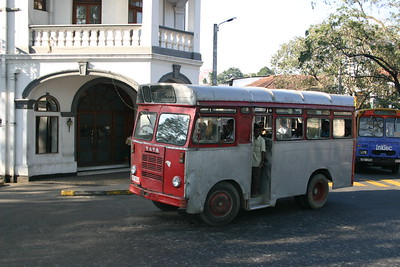bus: (129, 84, 355, 227), (353, 107, 400, 172)
